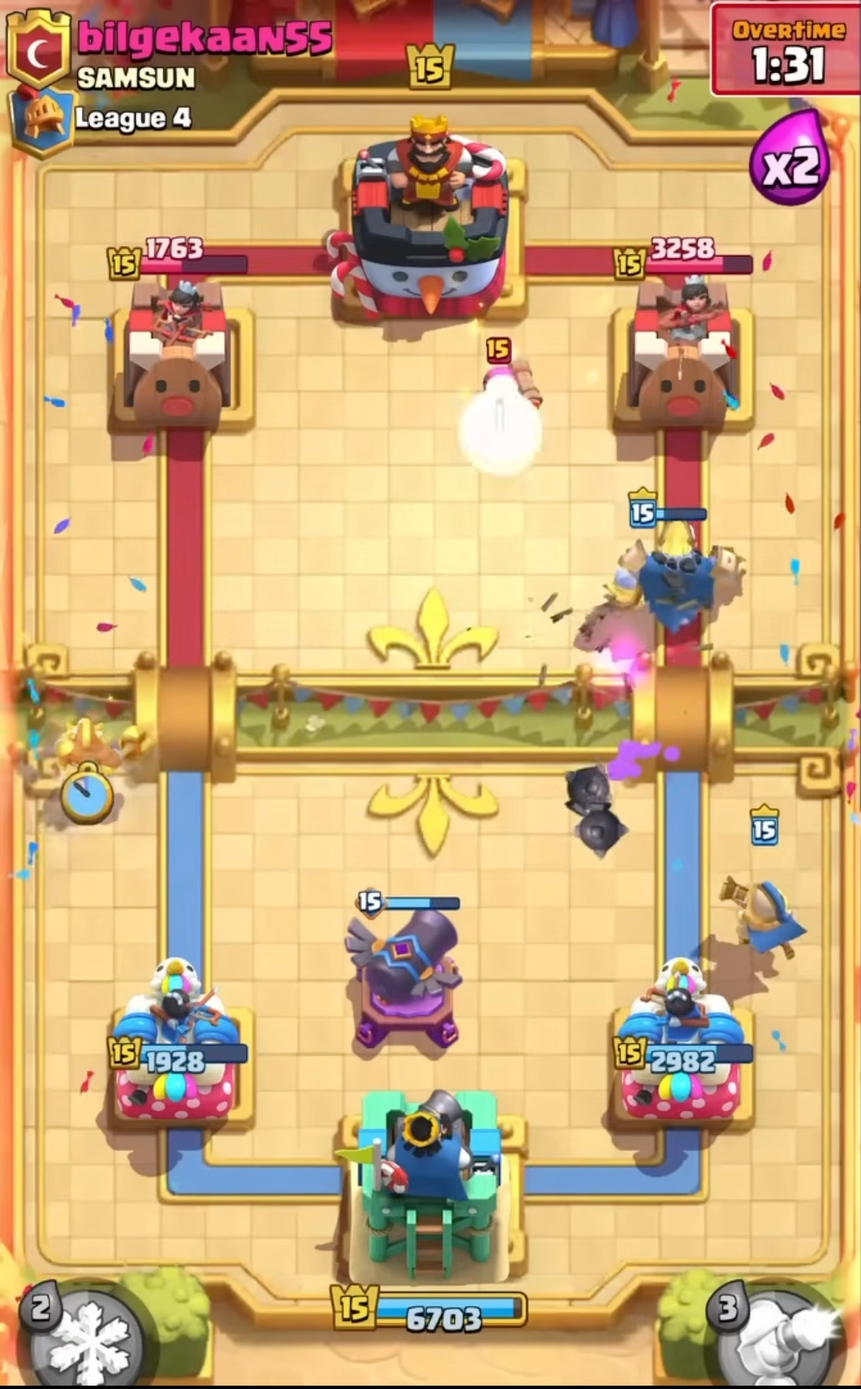evo-cannon: (333, 881, 479, 1071)
hero-ice-golem: (593, 483, 753, 646)
hero-musketeer: (713, 802, 814, 974)
hog-rider: (47, 711, 151, 840)
